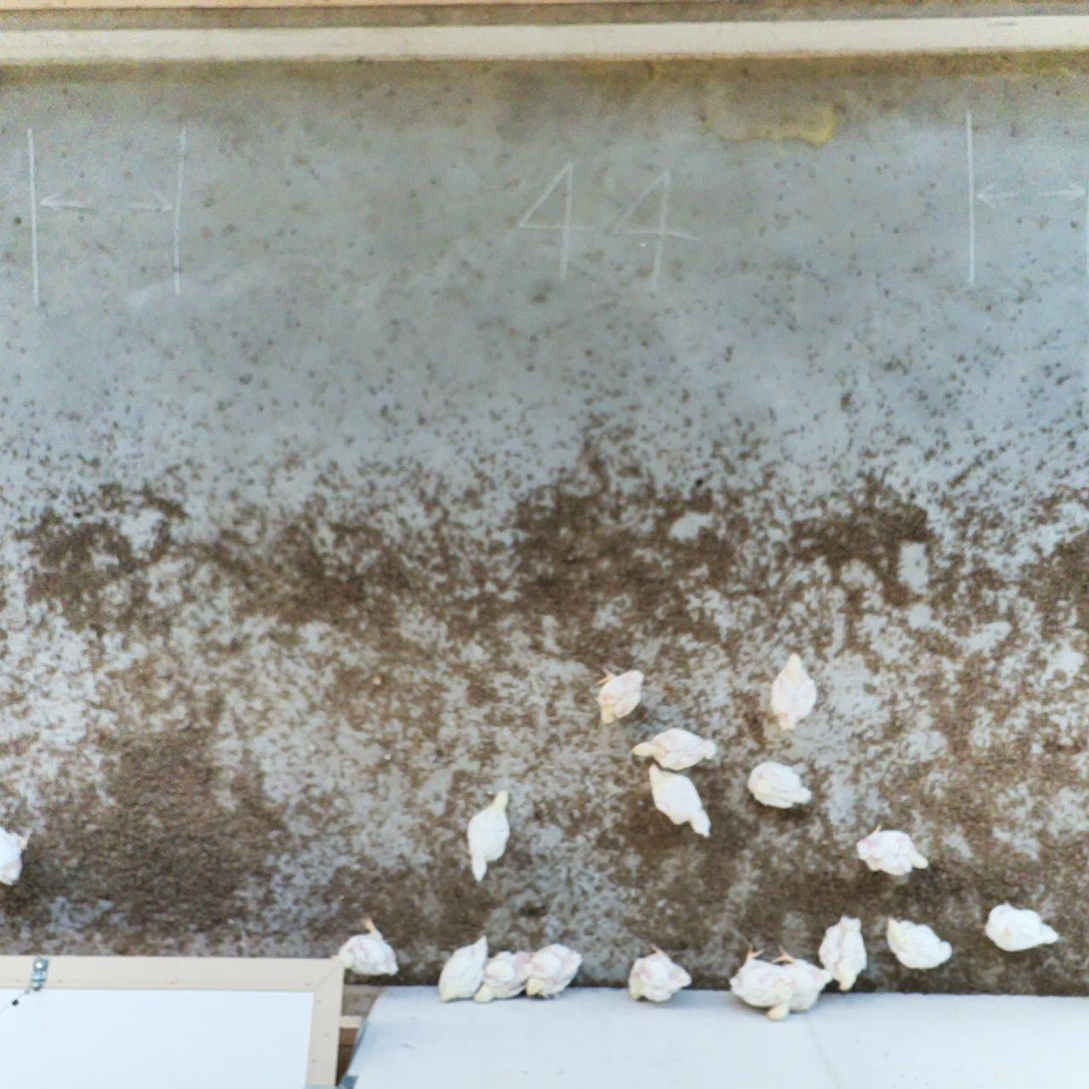chicken: (727, 941, 815, 1009), (765, 943, 836, 1021), (644, 761, 714, 840), (973, 895, 1063, 953), (464, 788, 517, 884), (332, 913, 402, 978), (854, 820, 931, 877), (816, 912, 870, 992), (629, 725, 719, 773), (769, 649, 820, 733), (436, 932, 493, 1006), (883, 912, 954, 971), (627, 941, 693, 1003), (472, 946, 537, 1006), (745, 757, 816, 811), (523, 941, 585, 1000), (591, 664, 649, 727), (0, 823, 36, 889)
